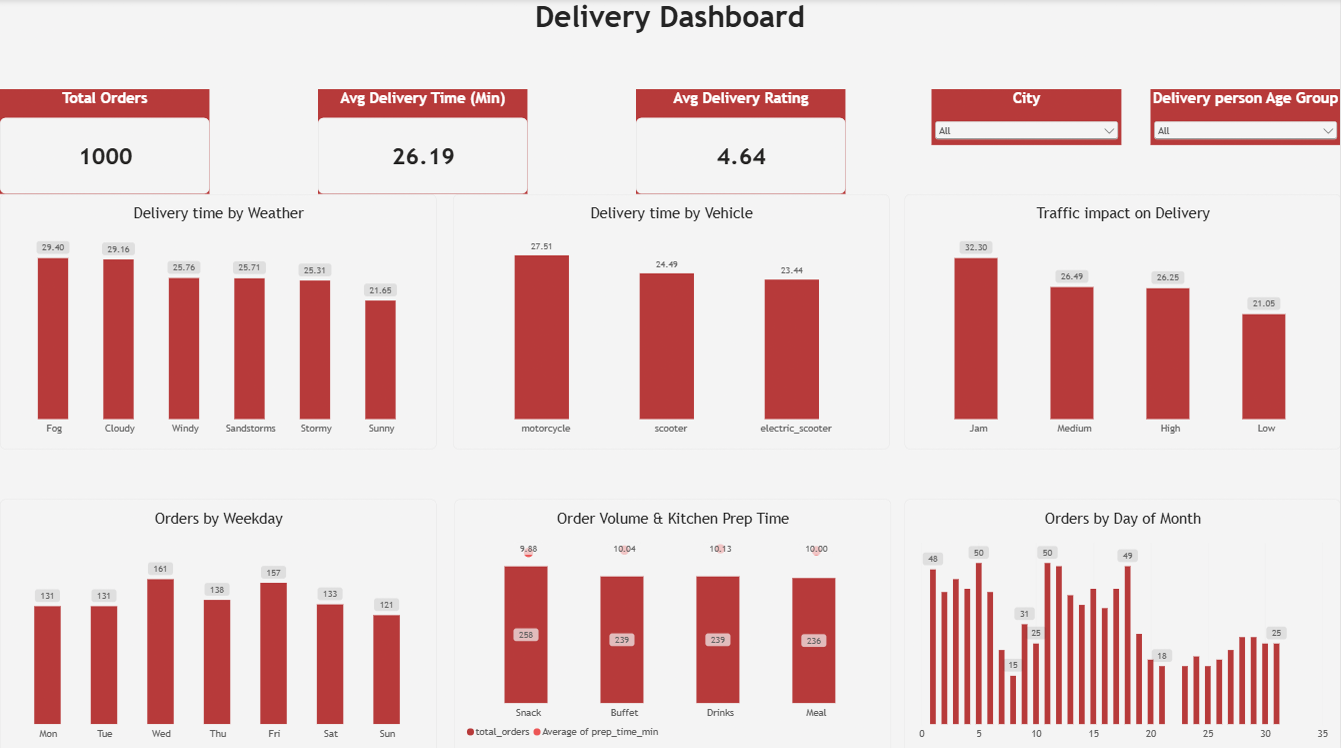

The page's visual inventory and layout, read from the dashboard file:
{"tool":"powerbi","page":{"name":"Page 1","canvas":[1920,1080],"ordinal":0},"visuals":[{"type":"cardVisual","title":"Total Orders","fields":{"Data":["All_measures.total_orders"]},"box":[0,128.9,300,150],"z":0},{"type":"textbox","box":[0,0,1919.2,104.2],"z":1000},{"type":"columnChart","title":"Delivery time by Weather","fields":{"Category":["delivery_dataset.weather_conditions"],"Y":["Avg(delivery_dataset.delivery_time_min)"]},"box":[0,278.6,625,365],"z":2000},{"type":"lineClusteredColumnComboChart","title":"Delivery time by Vehicle","fields":{"Category":["delivery_dataset.type_of_vehicle"],"Y":["Avg(delivery_dataset.delivery_time_min)"]},"box":[648.5,278.6,625,365],"z":3000},{"type":"clusteredColumnChart","title":"Orders by Day of Month","fields":{"Category":["DateTable.day"],"Y":["All_measures.total_orders"]},"box":[1294.7,715.8,624.5,365.1],"z":4000},{"type":"columnChart","title":"Orders by Weekday","fields":{"Category":["DateTable.Weekday"],"Y":["All_measures.total_orders"]},"box":[0,715.7,625,365],"z":5000},{"type":"lineClusteredColumnComboChart","title":"Order Volume & Kitchen Prep Time","fields":{"Category":["delivery_dataset.type_of_order"],"Y":["All_measures.total_orders"],"Y2":["Avg(delivery_dataset.prep_time_min)"]},"box":[650.9,715.8,625,365],"z":6000},{"type":"columnChart","title":"Traffic impact on Delivery","fields":{"Category":["delivery_dataset.road_traffic_density"],"Y":["Avg(delivery_dataset.delivery_time_min)"]},"box":[1294.7,278.6,625,365],"z":7000},{"type":"slicer","title":"Delivery person Age Group","fields":{"Values":["delivery_dataset.age_group"]},"box":[1648,128.9,272,80],"z":8000},{"type":"slicer","title":"City","fields":{"Values":["delivery_dataset.city"]},"box":[1334.3,128.9,272,80],"z":9000},{"type":"cardVisual","title":"Avg Delivery Time (Min)","fields":{"Data":["Avg(delivery_dataset.delivery_time_min)"]},"box":[455.5,128.9,300,150],"z":10000},{"type":"cardVisual","title":"Avg Delivery Rating","fields":{"Data":["Avg(delivery_dataset.delivery_person_ratings)"]},"box":[911,128.9,300,150],"z":11000}]}

Visuals, with their boxes in screenshot pixels (x1, y1, x2, y2), scaled from the page's 1920x1080 canvas onto the 1341x748 screenshot:
"Total Orders" cardVisual: region(0, 89, 210, 193)
textbox: region(0, 0, 1340, 72)
"Delivery time by Weather" columnChart: region(0, 193, 437, 446)
"Delivery time by Vehicle" lineClusteredColumnComboChart: region(453, 193, 889, 446)
"Orders by Day of Month" clusteredColumnChart: region(904, 496, 1340, 747)
"Orders by Weekday" columnChart: region(0, 496, 437, 747)
"Order Volume & Kitchen Prep Time" lineClusteredColumnComboChart: region(455, 496, 891, 747)
"Traffic impact on Delivery" columnChart: region(904, 193, 1340, 446)
"Delivery person Age Group" slicer: region(1151, 89, 1340, 145)
"City" slicer: region(932, 89, 1122, 145)
"Avg Delivery Time (Min)" cardVisual: region(318, 89, 528, 193)
"Avg Delivery Rating" cardVisual: region(636, 89, 846, 193)
